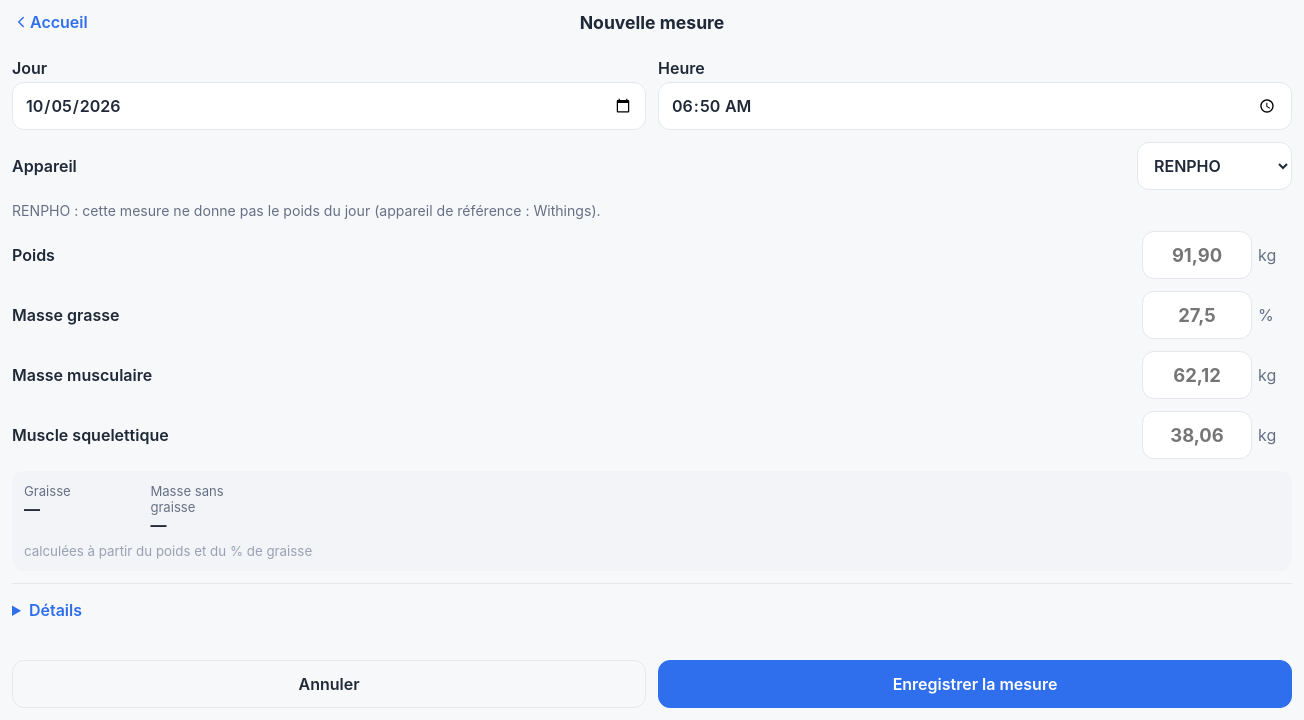
Scenario: saisie d'une mesure corporelle › réglage d'appareil de référence : une nouvelle mesure suit le réglage, sans rien coder en dur
Expected: the heading "Nouvelle mesure" is shown, left=580, top=12, right=724, bottom=32
Type "91,9" into the field named "Poids en kg" at [1197, 255], box left=1142, top=231, right=1252, bottom=279
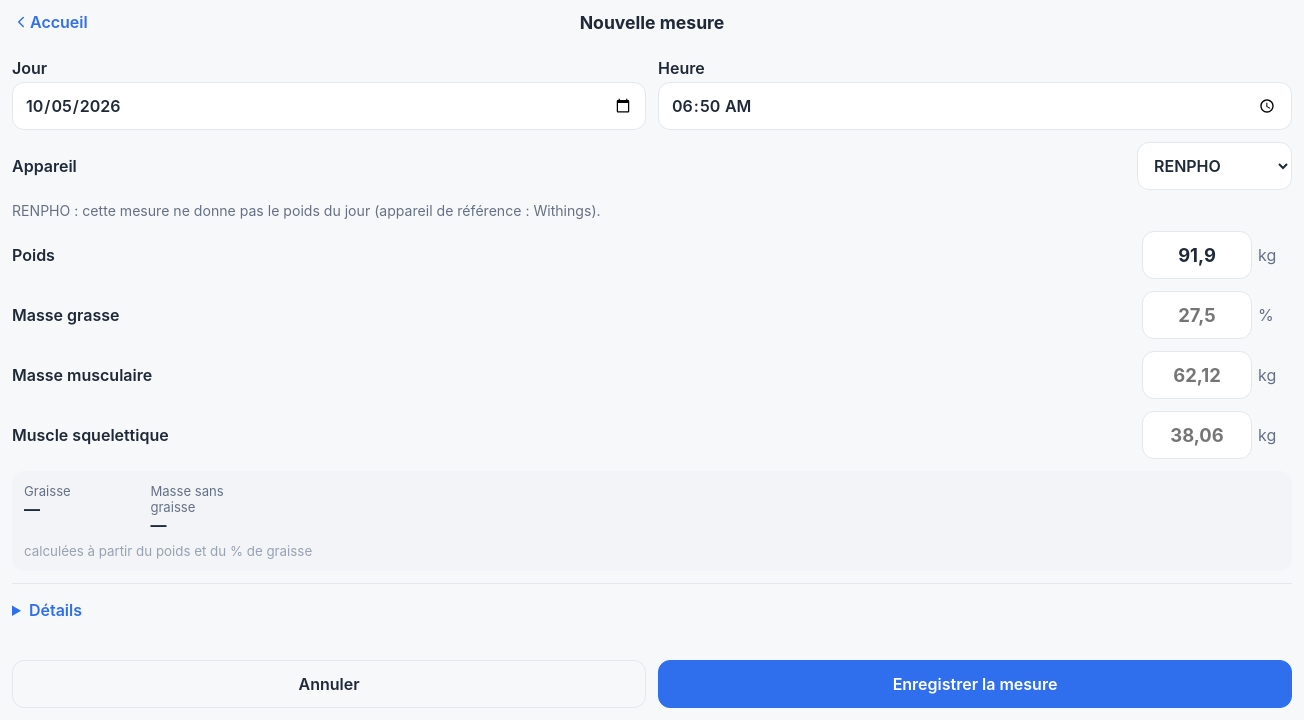
Expected: the text "ne donne pas le poids du jour" is shown, left=12, top=202, right=601, bottom=219
Click the button "Enregistrer la mesure" at [975, 684], box left=658, top=660, right=1292, bottom=708
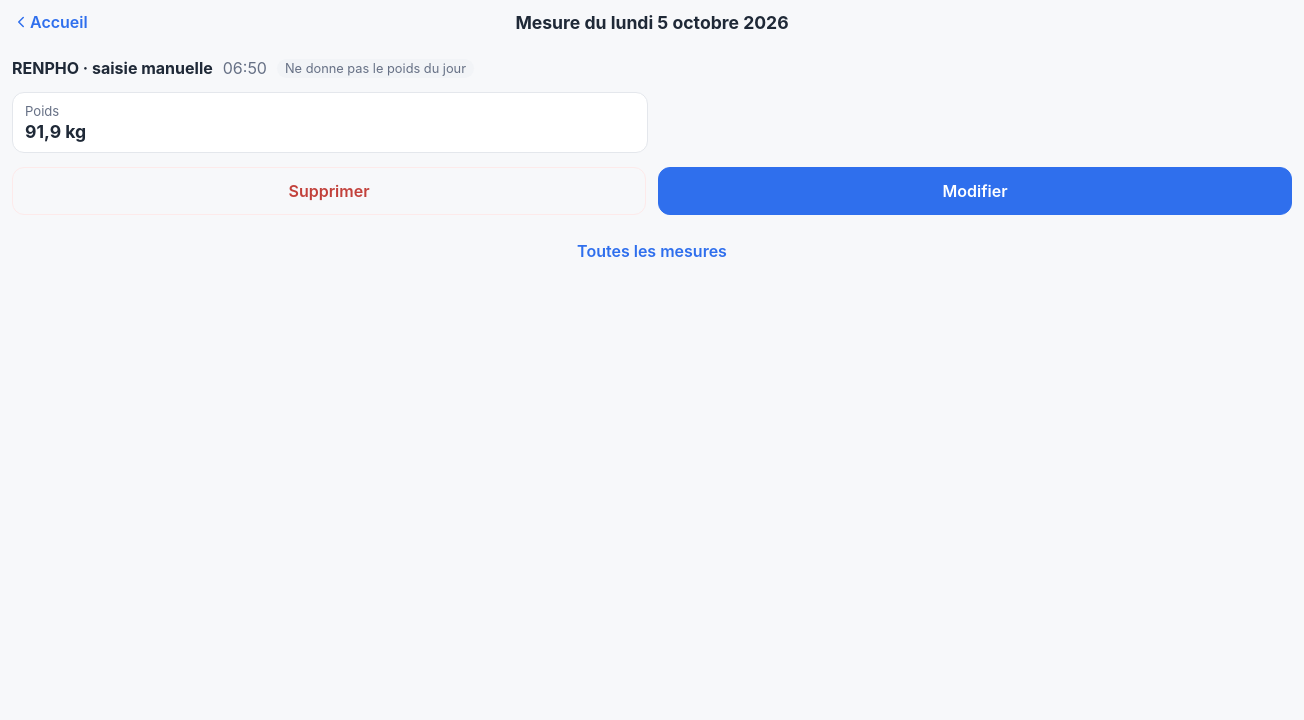
Now the heading "Mesure du lundi 5 octobre 2026" is shown, box left=515, top=12, right=789, bottom=32
